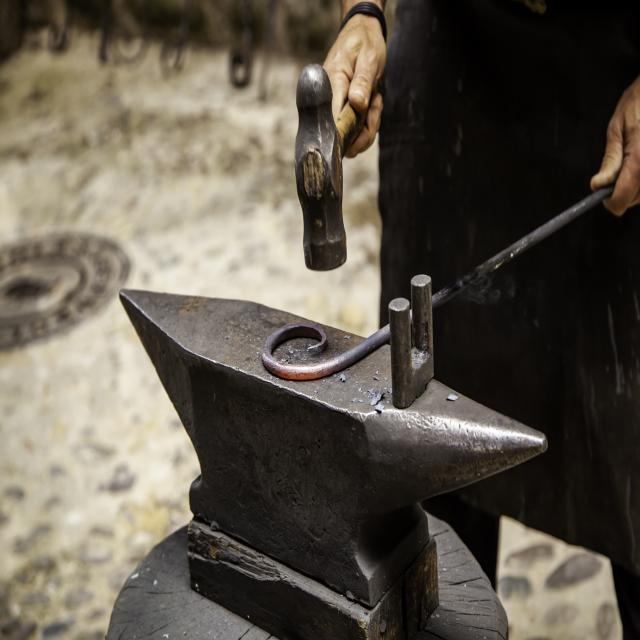hammer: (284, 58, 370, 282)
